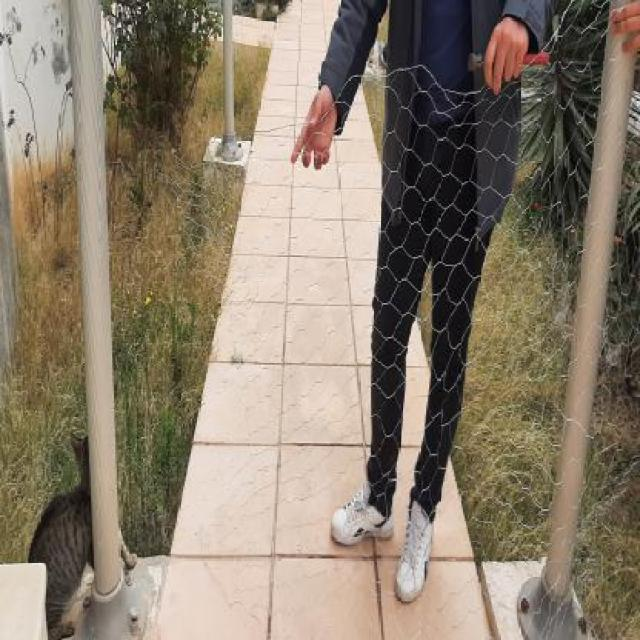fence line: (106, 176, 246, 605)
